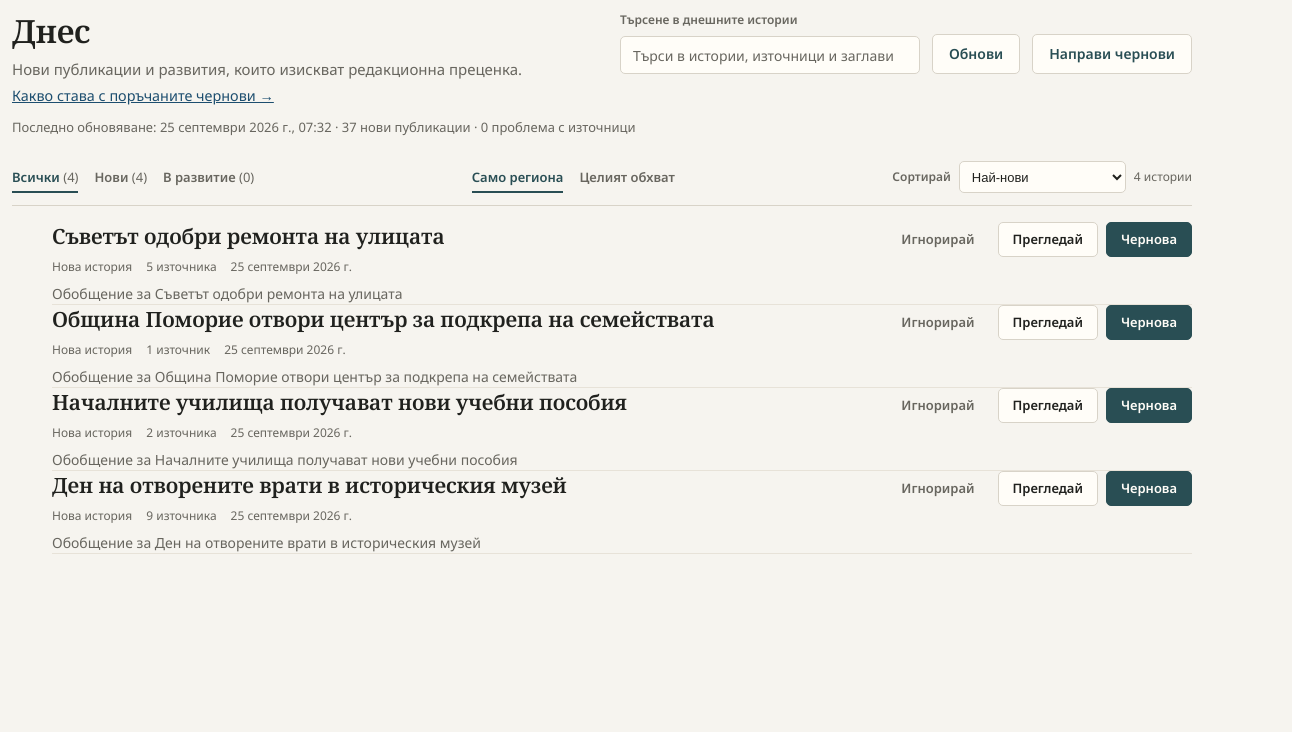
Test case: V1.2-G1 — evidence warning semantics › keeps the precise NO_OPEN_SOURCE wording the backend sent
Click the 1st button "Чернова".
click(1149, 240)  # box [1106,222,1192,257]
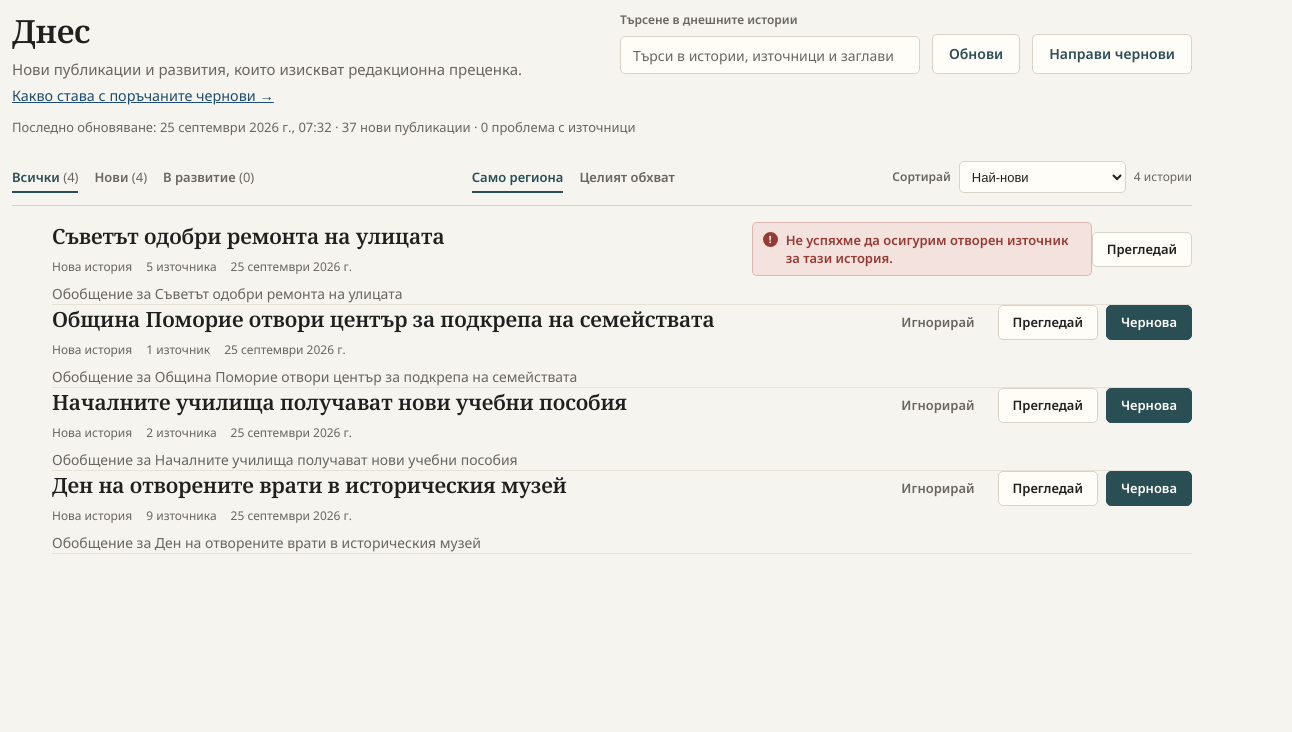
Expected: the message shows "Не успяхме да осигурим отворен източник за тази история.", [786,231,1068,267]
